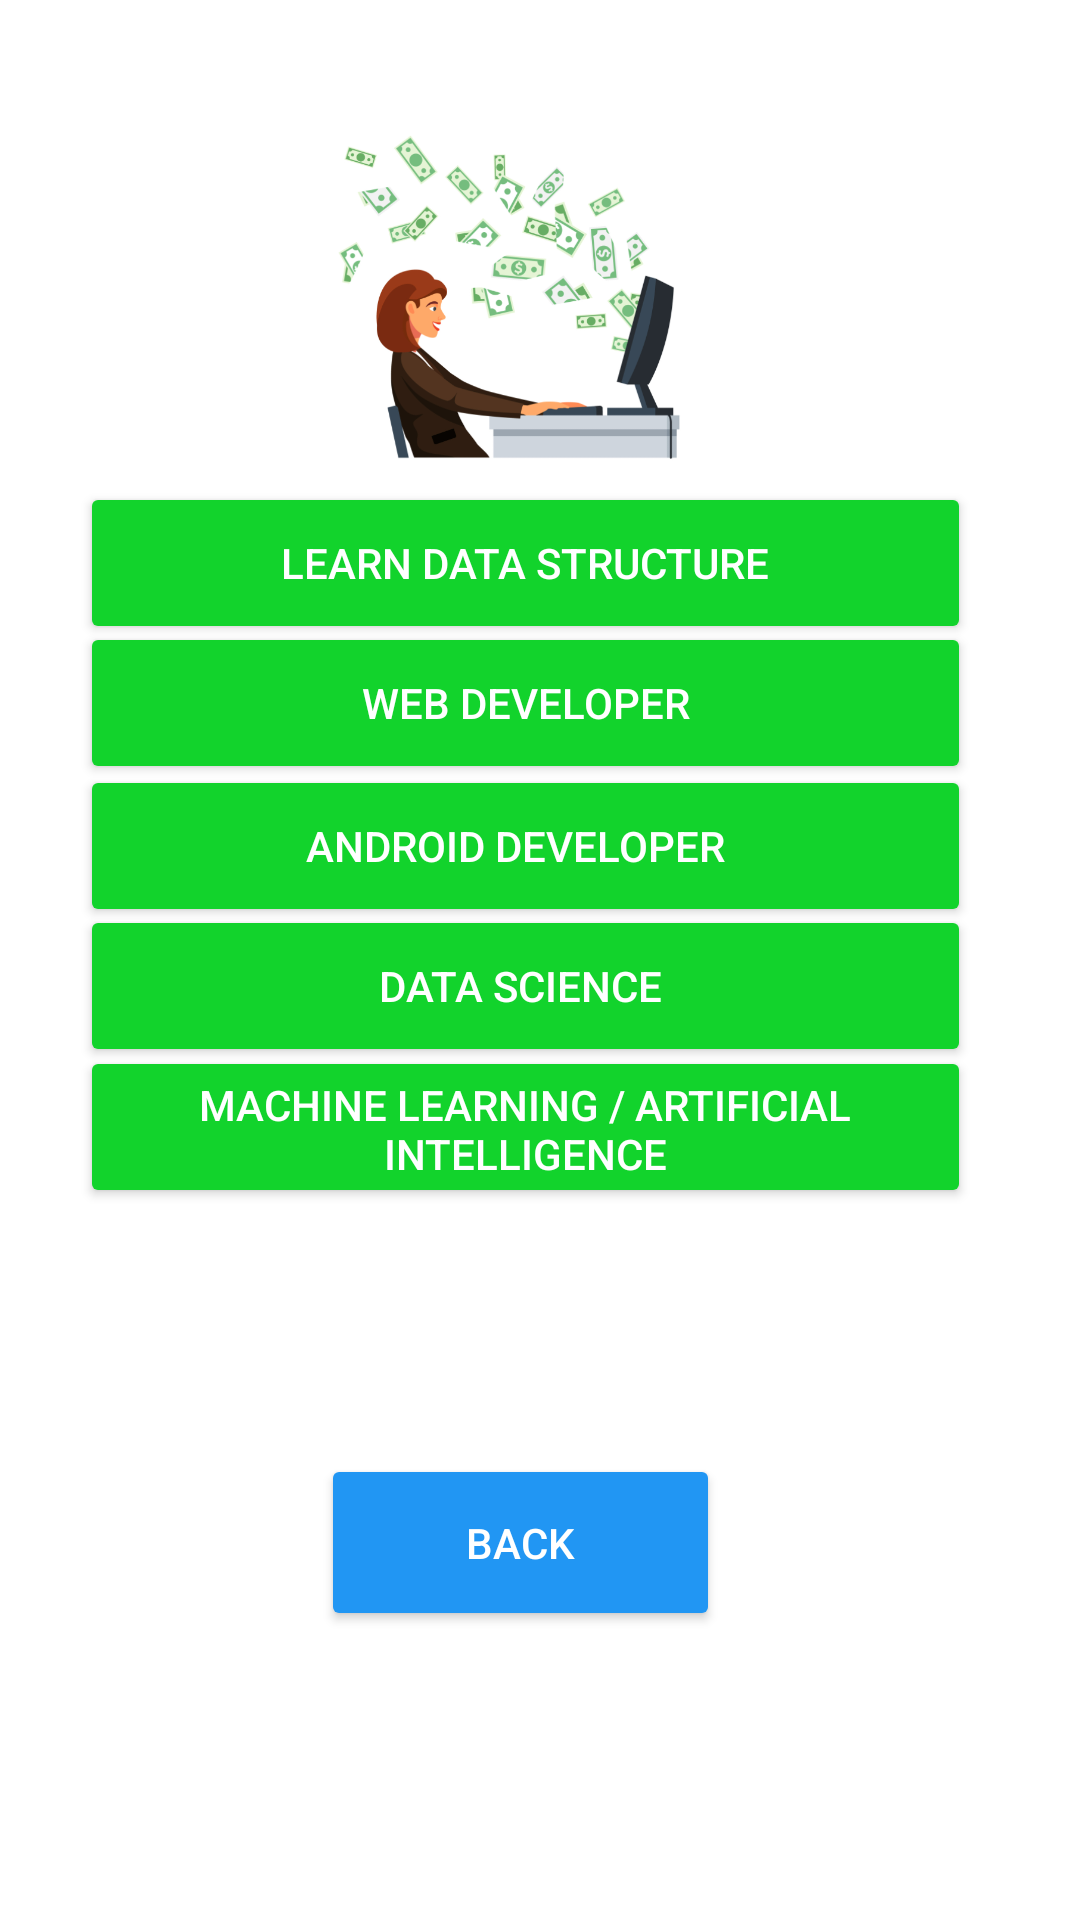

Icon click points for this 1080px x 1920px phone screenshot, format [x,y]:
money: [509,297]
